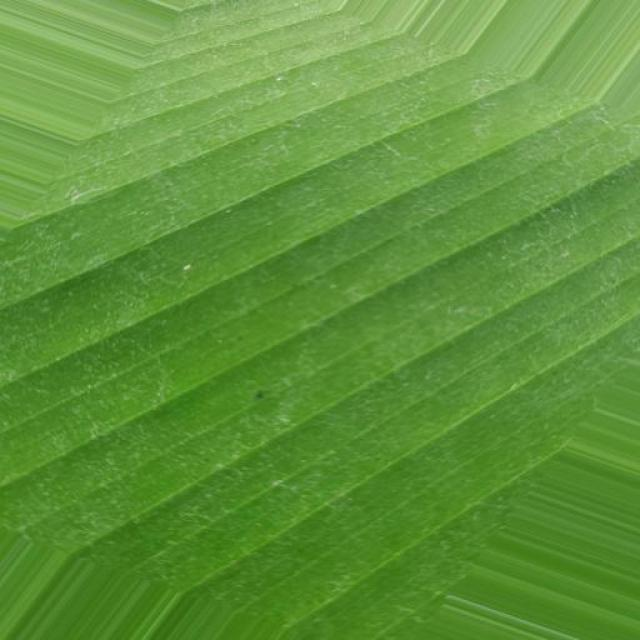Black_leaf_spot: (50, 3, 640, 565)
